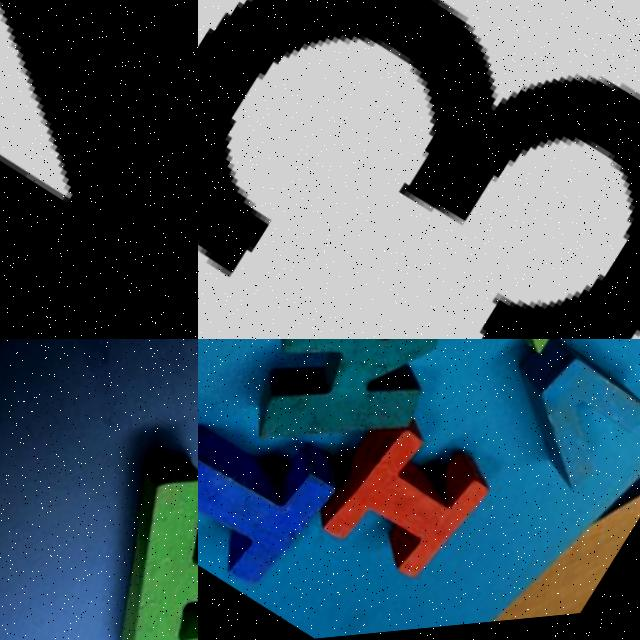3: (198, 0, 640, 339)
F: (5, 392, 198, 640)
I: (302, 408, 501, 603)
K: (198, 339, 473, 514)
N: (0, 0, 198, 339)
T: (198, 386, 340, 599)
V: (473, 339, 640, 532)
